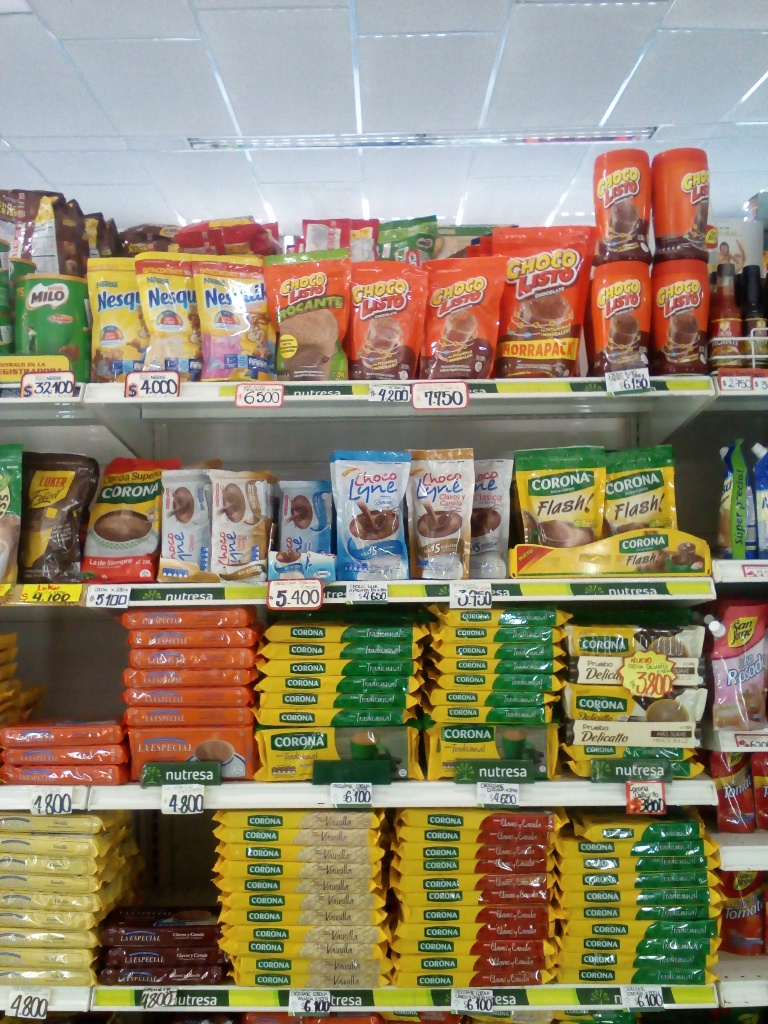COL0170102DYP25000: (262, 255, 351, 383)
COL0170103DYP20000: (415, 260, 494, 378)
COL0170103DYP40000: (494, 228, 597, 376)
COL0170103TRR30000: (587, 153, 655, 266)
COL0170303DYP20000: (82, 250, 145, 380)
